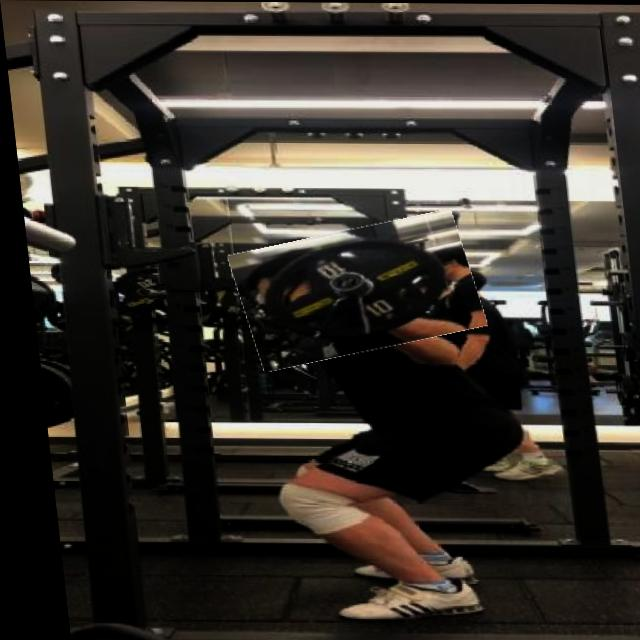barbell: (224, 219, 480, 362)
